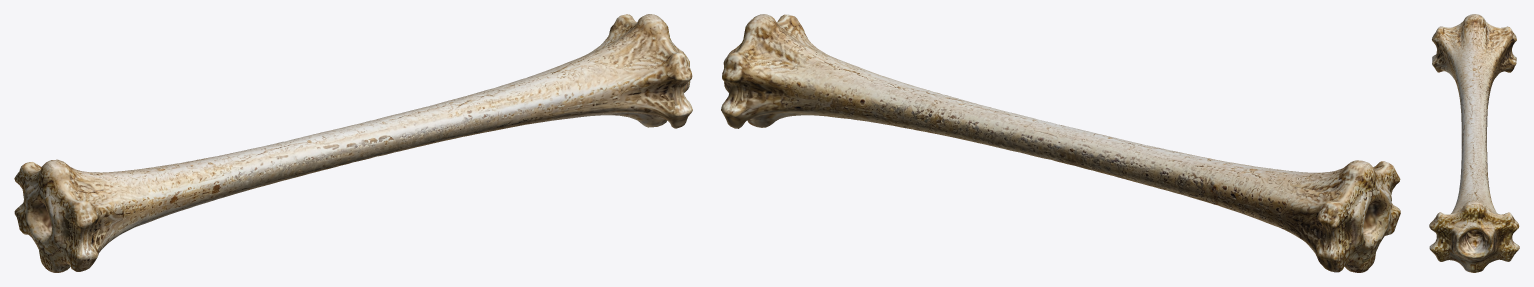
Rendered from BoneImports_Spear.fbx.
3 renders of one model, left to right at view 1: azimuth 30°, elevation 25°; view 2: azimuth 150°, elevation 25°; view 3: azimuth 270°, elevation 25°, orthographic. The views are drawn at different scales.
Visible parts, largest first — view 1: texture_mapping; view 2: texture_mapping; view 3: texture_mapping.
Boxes of the visible parts, left/top/right/bottom form: texture_mapping: left=14, top=14, right=692, bottom=272; texture_mapping: left=721, top=14, right=1400, bottom=272; texture_mapping: left=1429, top=14, right=1519, bottom=272.
Size of the model in its own units: 0.9965 by 0.1901 by 0.1618.
1 material, 1 textured.
